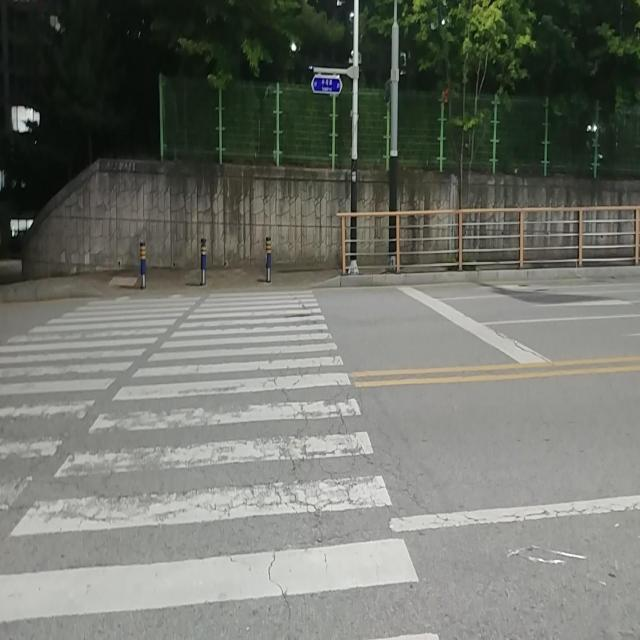횡단보도: (0, 288, 440, 640)
